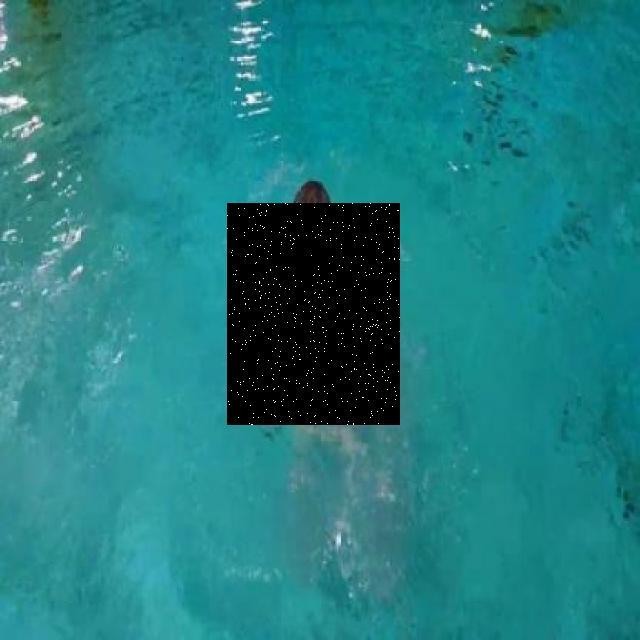Out of Water: (227, 203, 400, 425)
